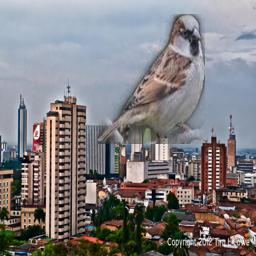Sparrow: (98, 14, 205, 144)
